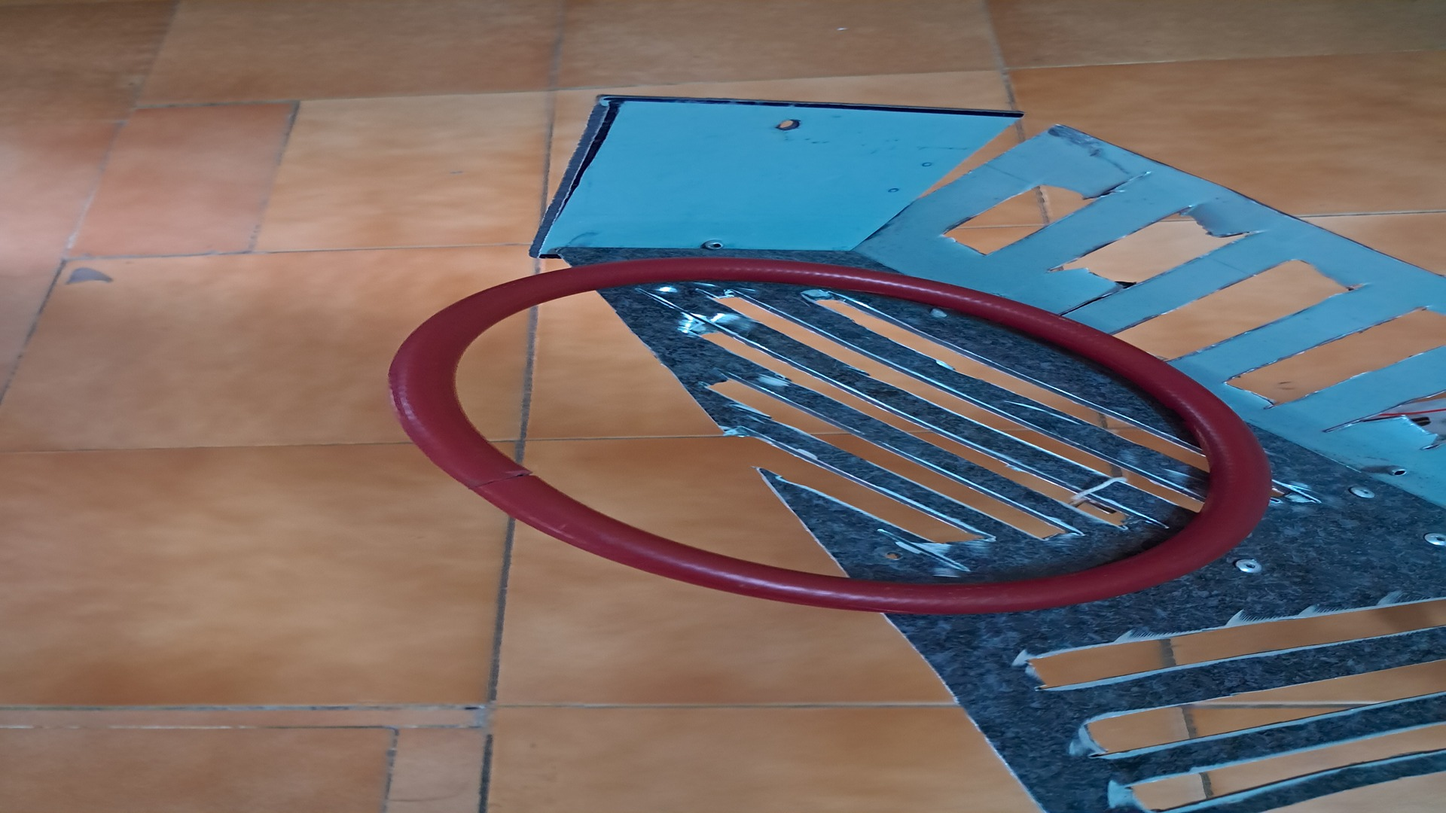Red ring: (389, 257, 1263, 617)
